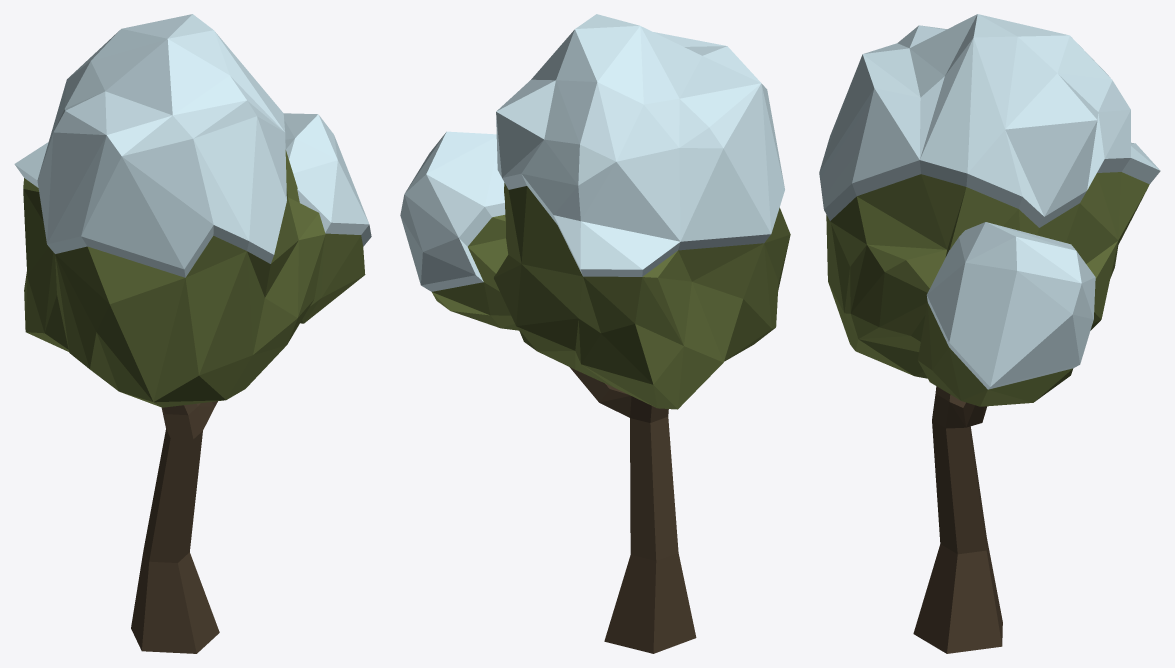
Rendered from SM_Env_Tree_03_Snow.gltf.
The picture shows the model from 3 angles, left to right: view 1: azimuth 30°, elevation 25°; view 2: azimuth 150°, elevation 25°; view 3: azimuth 270°, elevation 25°; orthographic projection. The views are drawn at different scales.
Visible parts, largest first — view 1: SM_Env_Tree_03_Snow; view 2: SM_Env_Tree_03_Snow; view 3: SM_Env_Tree_03_Snow.
Part boxes in pixels (x1,y1,x2,y2): SM_Env_Tree_03_Snow: (14,14,371,653); SM_Env_Tree_03_Snow: (400,14,790,653); SM_Env_Tree_03_Snow: (819,14,1160,653).
Bounding box in the file's own units: 3.4 × 5.77 × 2.88.
1 material, 1 textured.
